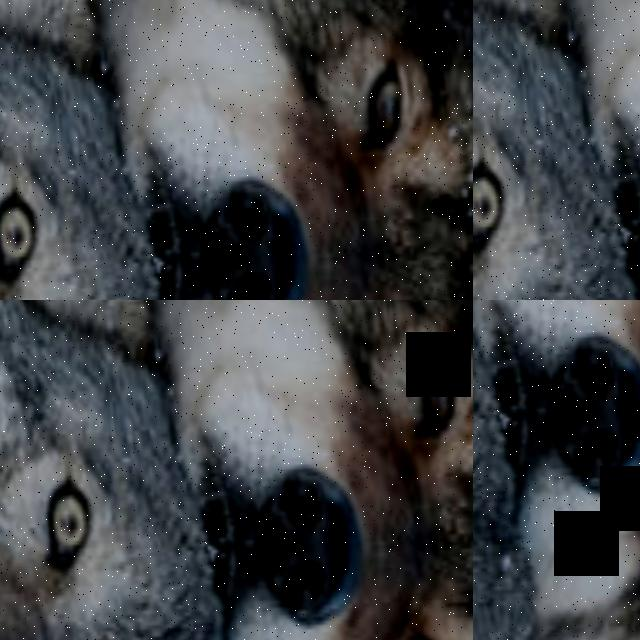dog: (277, 0, 473, 300)
wolf: (0, 300, 473, 640), (473, 300, 640, 640), (473, 300, 539, 640)
